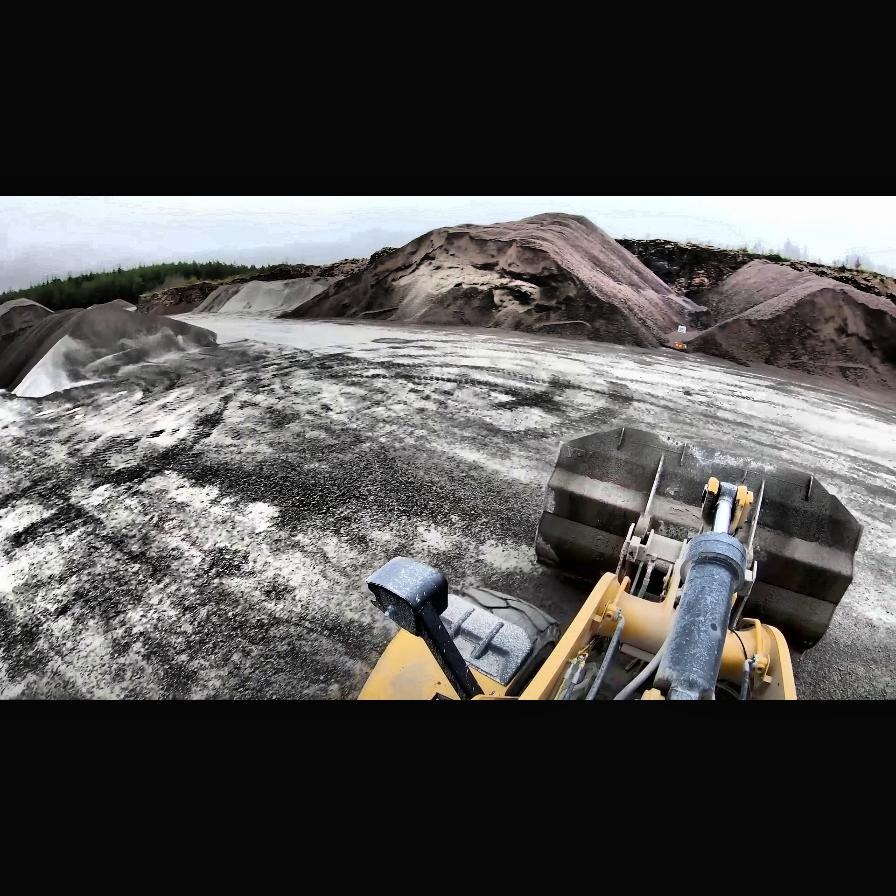anchor: (702, 478, 754, 536)
pile of gravel: (314, 212, 686, 346), (673, 259, 893, 397), (4, 299, 222, 401), (426, 215, 596, 275), (278, 254, 424, 320), (194, 277, 334, 317), (484, 213, 607, 239), (1, 298, 54, 346), (90, 298, 136, 312)
